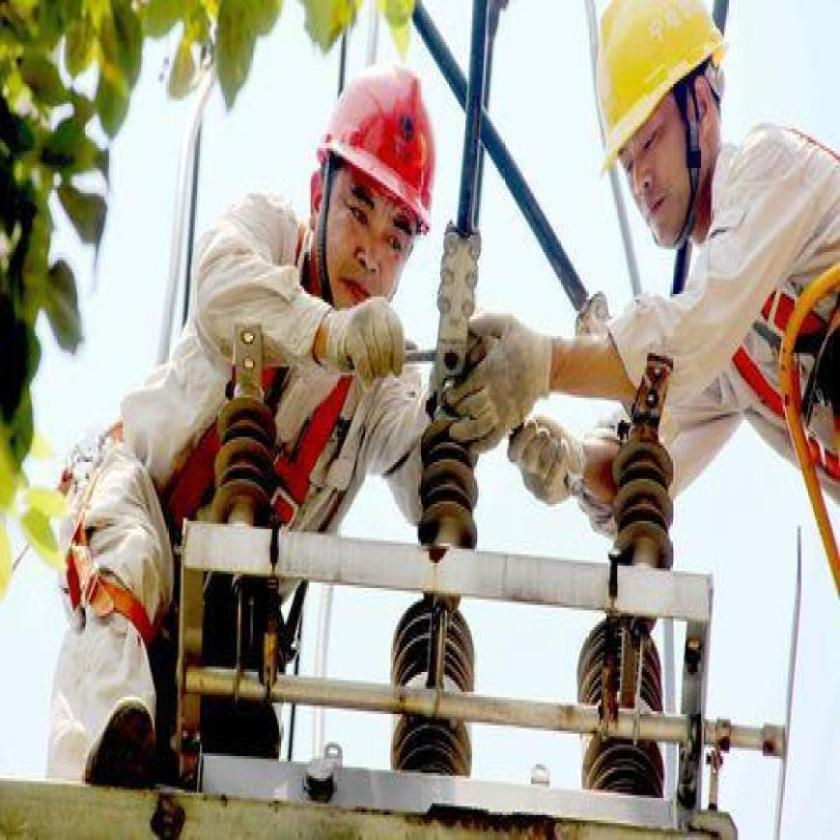Con_casco: (301, 40, 459, 328), (583, 5, 735, 253)
